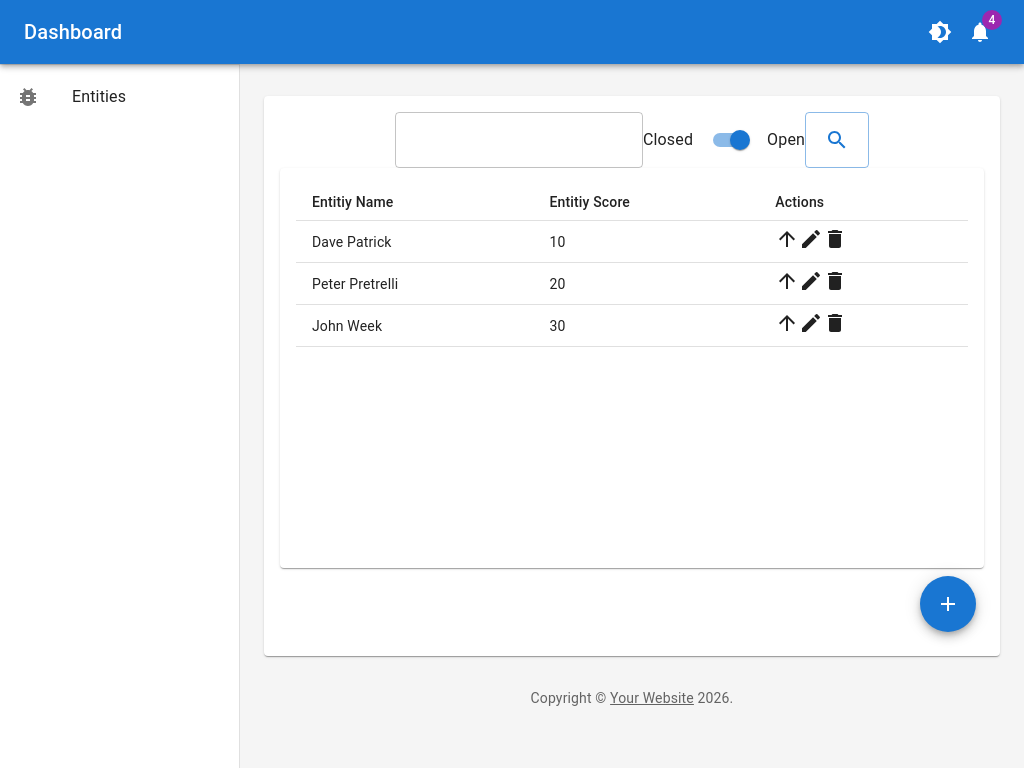
Test: Add entity tests › Should validate when try to save empty entity
What coordinates should you click on to do the following:
click the button with test id "open_add_entity_modal_button_id"
I would click on:
 (948, 604)
Its box is [920,576,976,632].
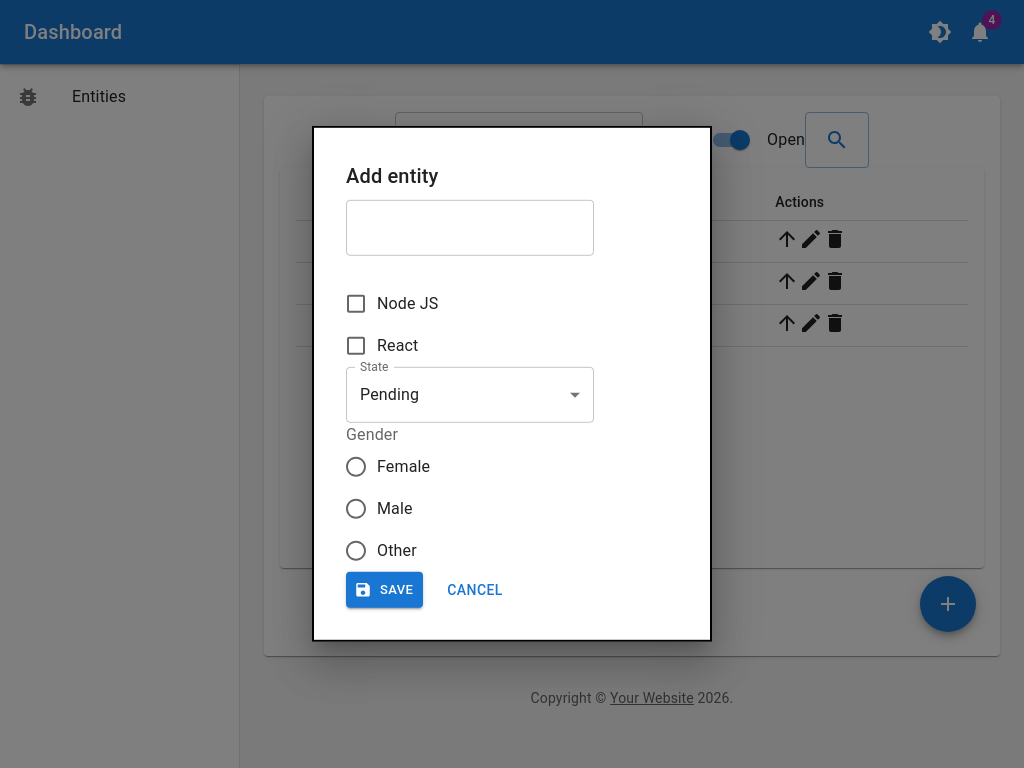
What coordinates should you click on to do the following:
click the button with test id "save_entity_button_id"
I would click on:
 (385, 591)
Its box is [346,572,423,609].
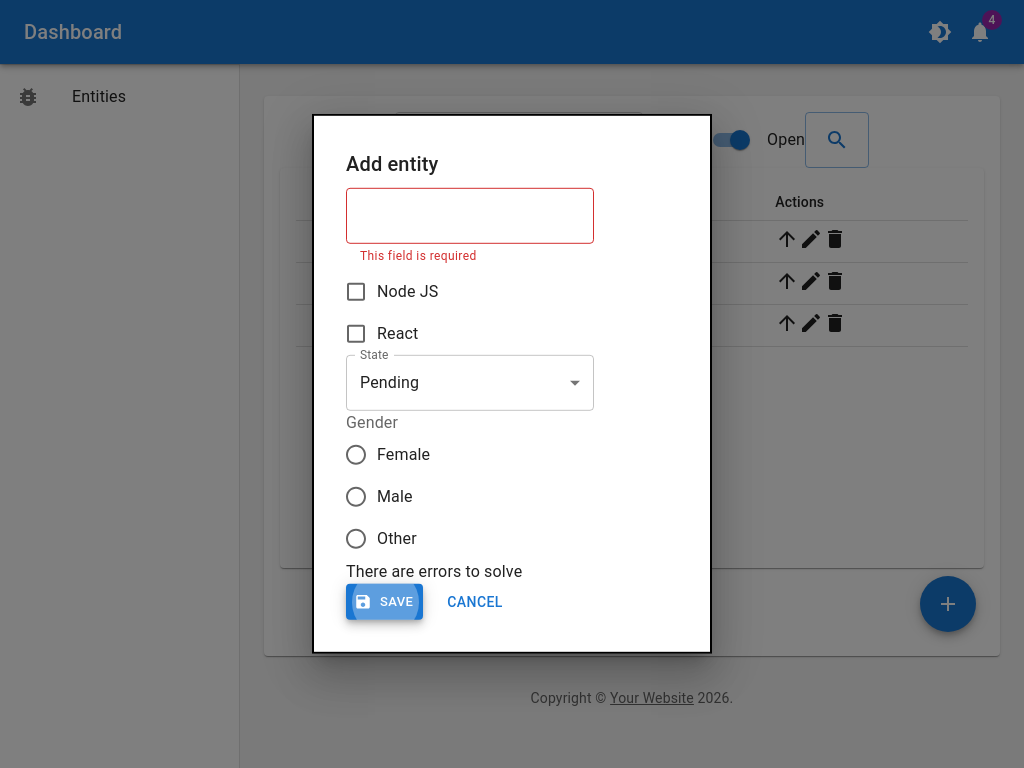
Expected: the text "There are errors to solve" is shown, [346,562,522,581]
